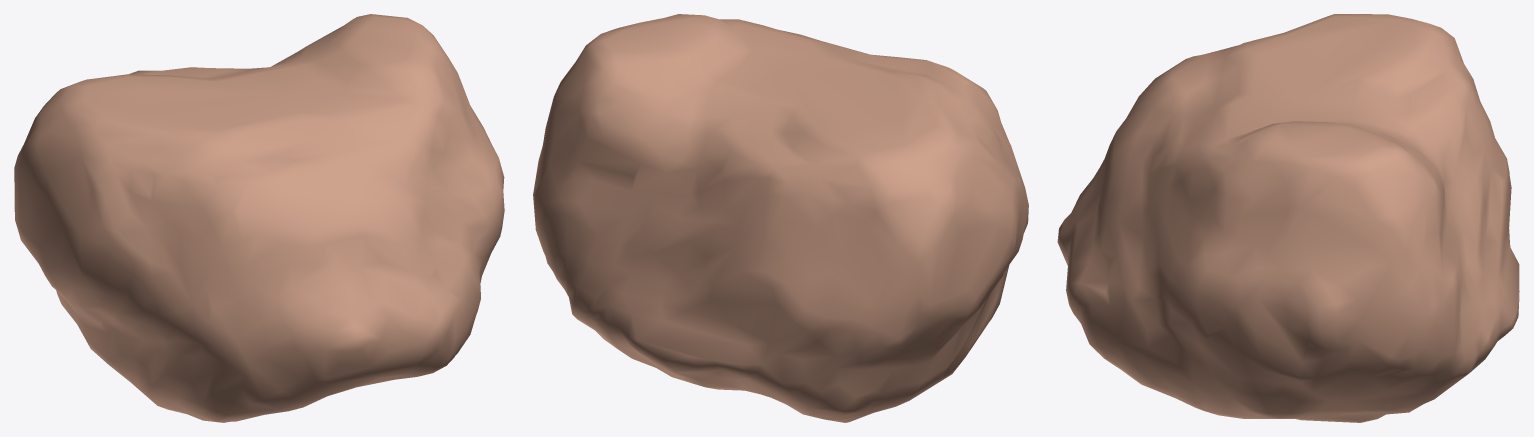
The model's file is tsd_s0327_older_adult_male.reproductive.LOD4.glb.
3 renders of one model, left to right at view 1: azimuth 30°, elevation 25°; view 2: azimuth 150°, elevation 25°; view 3: azimuth 270°, elevation 25°, orthographic. The views are drawn at different scales.
Visible parts, largest first — view 1: TSD_S0327.OLDER_ADULT.MALE.REPRODUCTIVE.PROSTATE; view 2: TSD_S0327.OLDER_ADULT.MALE.REPRODUCTIVE.PROSTATE; view 3: TSD_S0327.OLDER_ADULT.MALE.REPRODUCTIVE.PROSTATE.
Boxes of the visible parts, box(x1,y1,x2,y2) form: TSD_S0327.OLDER_ADULT.MALE.REPRODUCTIVE.PROSTATE: box(14, 14, 504, 422); TSD_S0327.OLDER_ADULT.MALE.REPRODUCTIVE.PROSTATE: box(533, 14, 1028, 422); TSD_S0327.OLDER_ADULT.MALE.REPRODUCTIVE.PROSTATE: box(1057, 14, 1519, 422).
Size of the model in its own units: 0.044 by 0.0288 by 0.0401.
